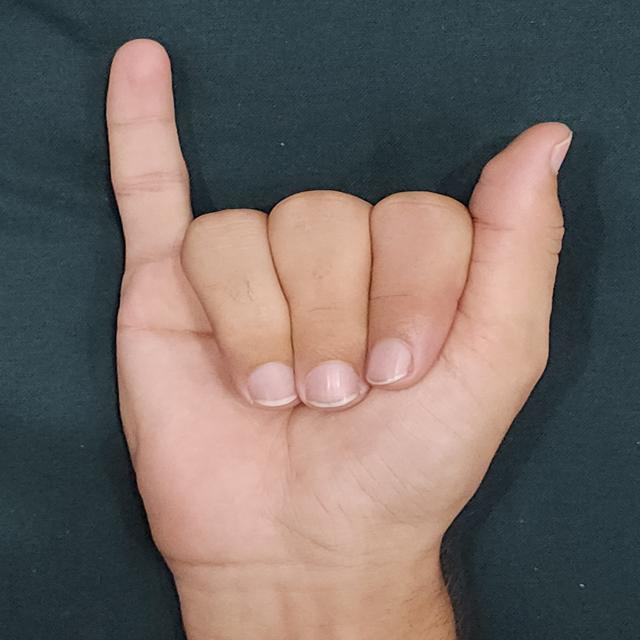ژ: (90, 35, 598, 582)
